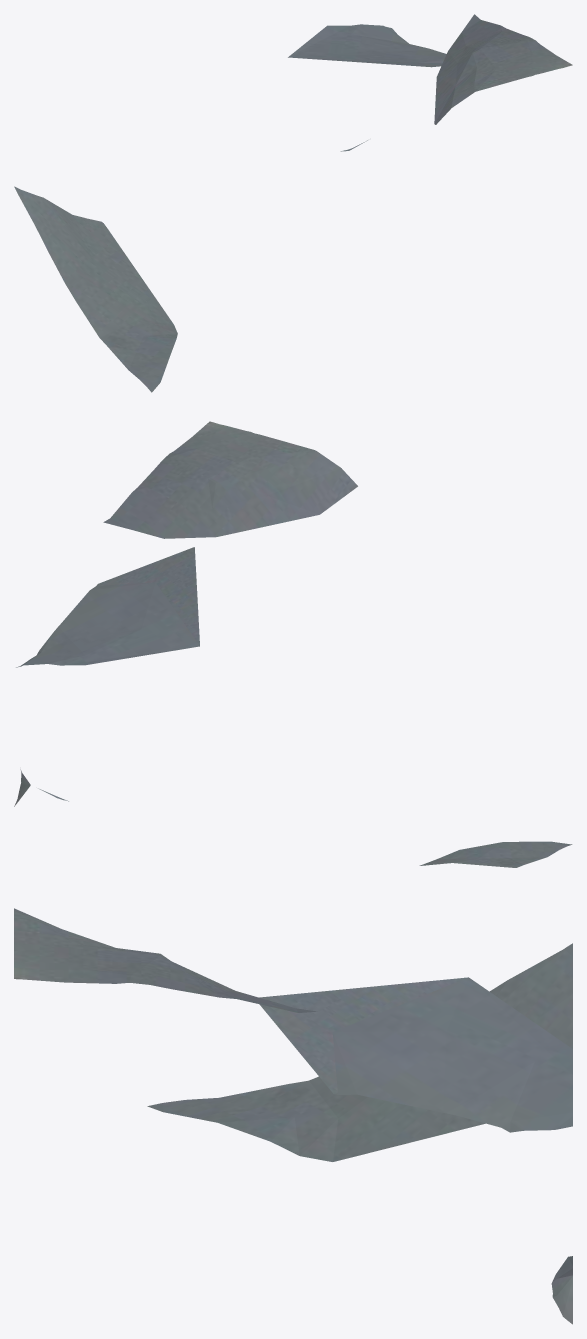
File: Tile_+000_+006_L20_000030.glb
3 renders of one model, top to bottom at view 1: azimuth 30°, elevation 25°; view 2: azimuth 150°, elevation 25°; view 3: azimuth 270°, elevation 25°, orthographic. The views are drawn at different scales.
Parts seen in each view (by area): view 1: rtc; view 2: rtc; view 3: rtc.
Boxes of the visible parts, x1,y1,x2,y2 form: rtc: (14, 14, 572, 392); rtc: (14, 421, 572, 867); rtc: (14, 908, 572, 1324).
Bounding box in the file's own units: 30.48 × 20.56 × 25.25.
1 material, 1 textured.
